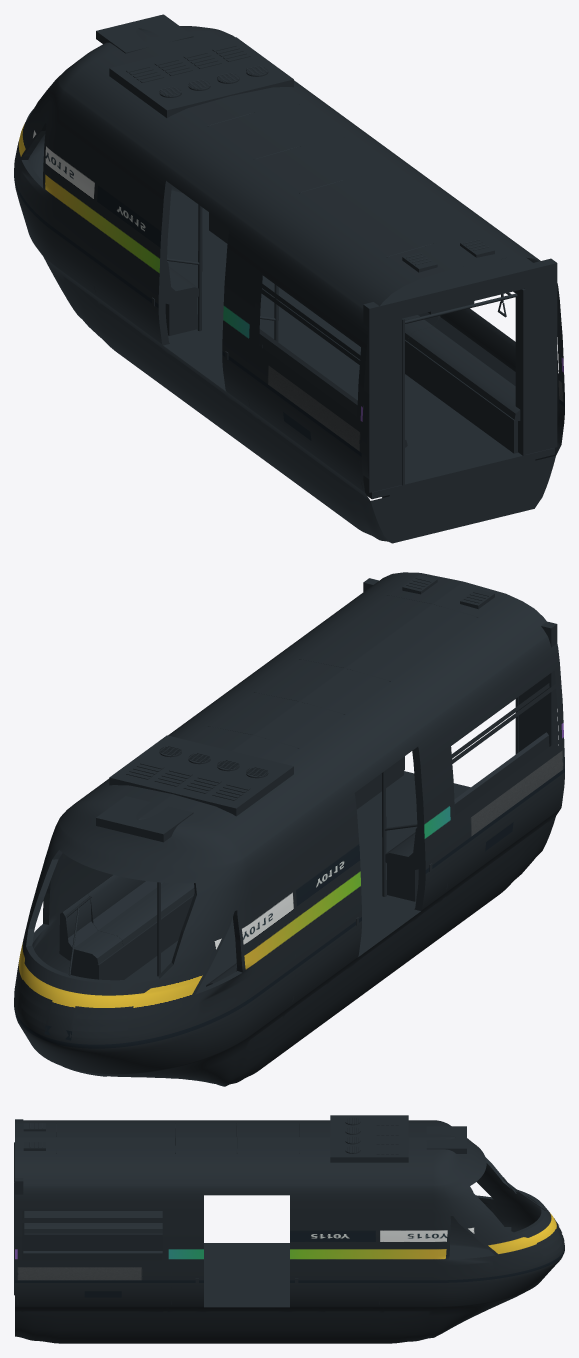
Rendered from end_car.obj.
3 views of the same model, one above another, from view 1: azimuth 30°, elevation 25°; view 2: azimuth 150°, elevation 25°; view 3: azimuth 270°, elevation 25° (orthographic). The views are drawn at different scales.
Visible parts, largest first — view 1: shell, salon; view 2: shell, salon; view 3: shell, salon.
Part boxes in pixels (x1,y1,x2,y2): shell: (14,14,564,543); salon: (21,109,559,499); shell: (14,572,564,1086); salon: (26,578,558,994); shell: (15,1115,564,1343); salon: (14,1119,545,1305).
Size of the model in its own units: 2.42 by 3.08 by 8.31.
